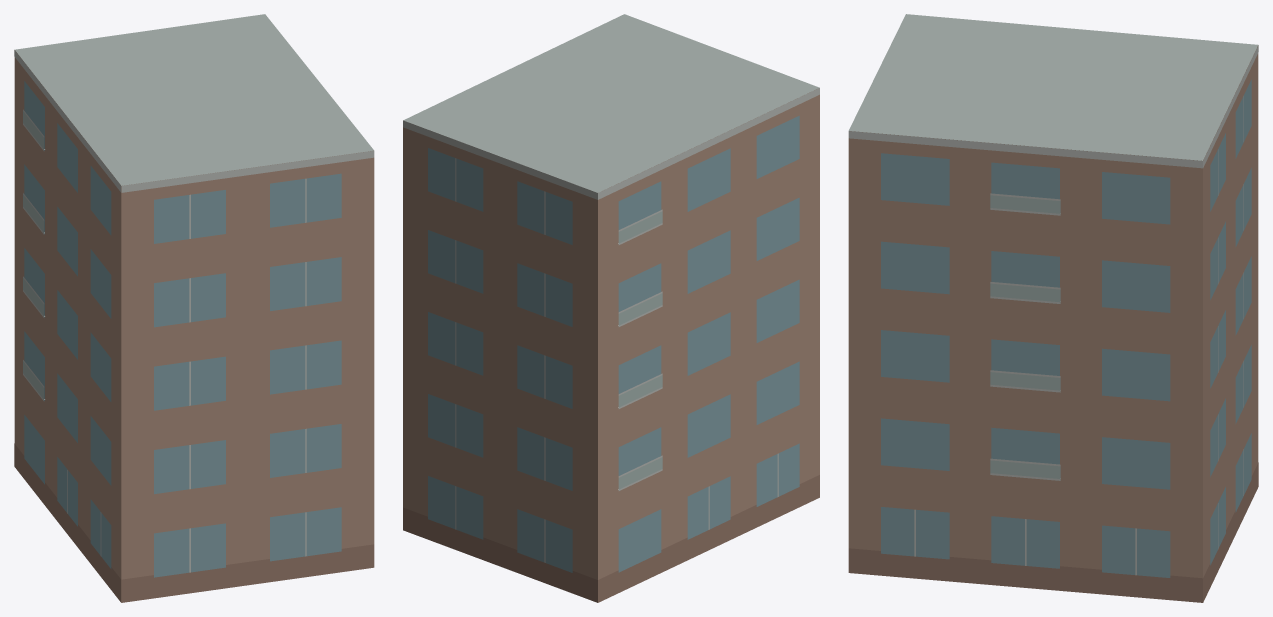
The model's file is survey-upis-33025995.glb.
3 views of the same model, side by side, from view 1: azimuth 30°, elevation 25°; view 2: azimuth 150°, elevation 25°; view 3: azimuth 270°, elevation 25° (orthographic). The views are drawn at different scales.
Parts seen in each view (by area): view 1: survey-upis-33025995.tmp; view 2: survey-upis-33025995.tmp; view 3: survey-upis-33025995.tmp.
Part boxes in pixels (x1,y1,x2,y2): survey-upis-33025995.tmp: (14,14,374,602); survey-upis-33025995.tmp: (403,14,819,602); survey-upis-33025995.tmp: (848,14,1258,602).
Size of the model in its own units: 10.27 by 14.4 by 12.11.
